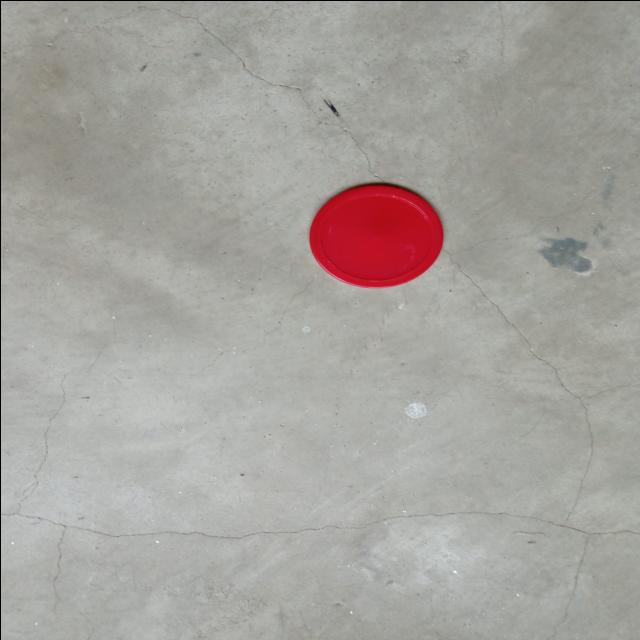chip: (304, 182, 444, 288)
